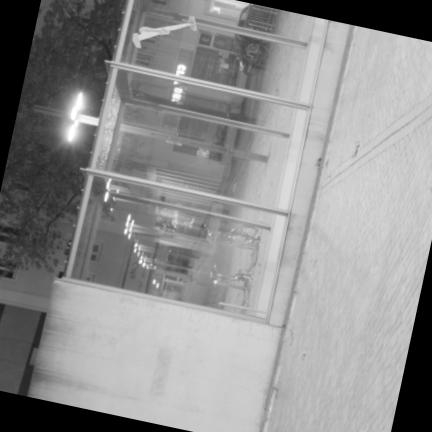Shahed: (133, 15, 197, 47)
